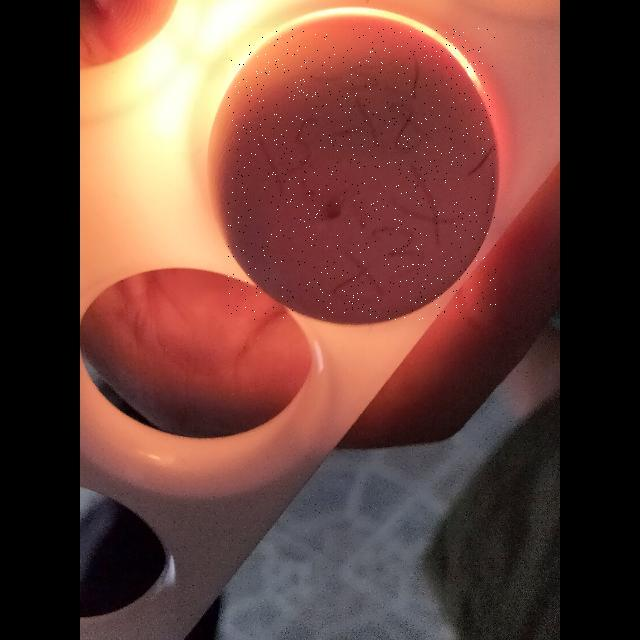Fertile: (228, 28, 496, 320)
